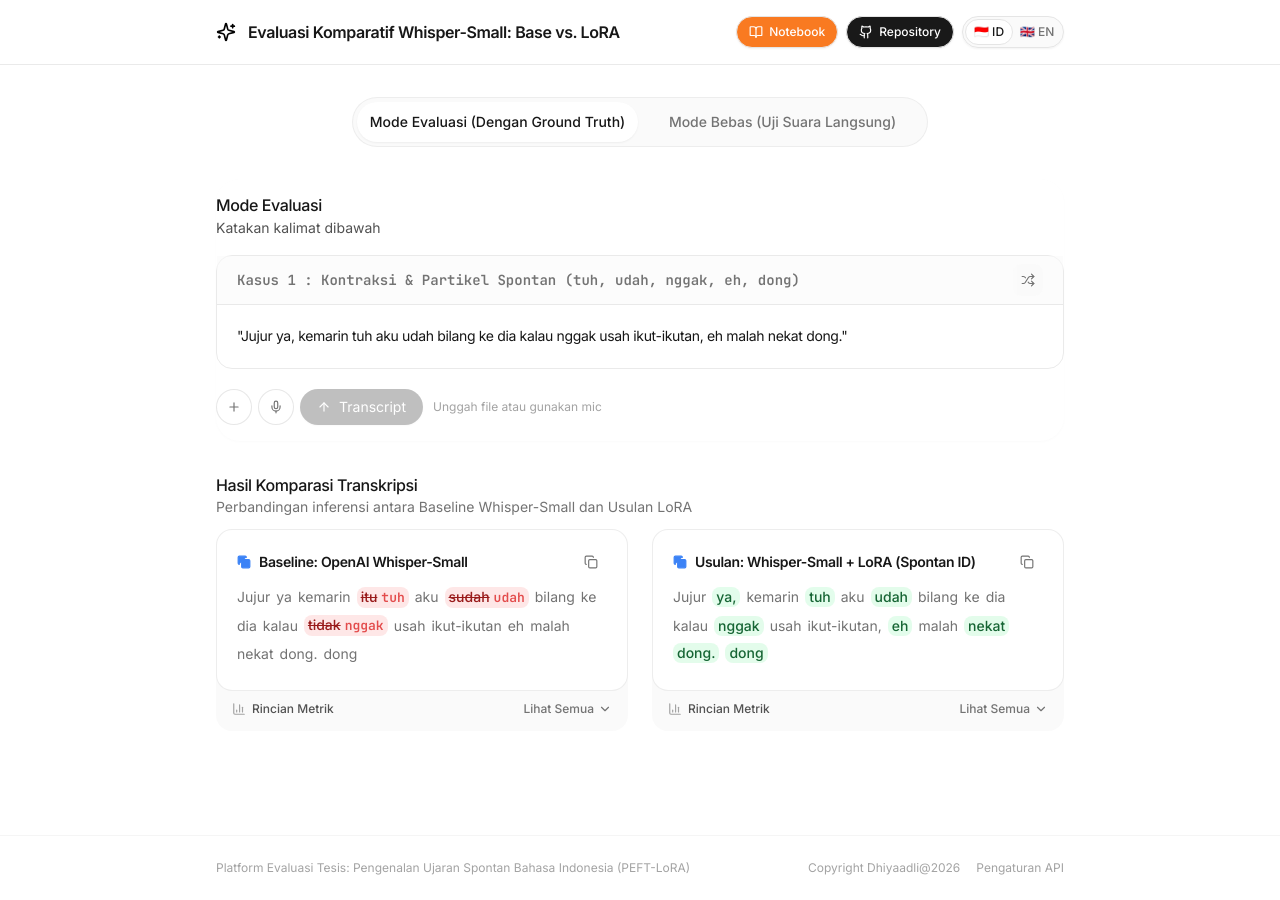
Test: Full Application User Workflow Integration › switches between Benchmark Mode and Free-Form Mode
The image size is (1280, 900).
Expected: the text "Kasus 1" is shown, [237, 270, 800, 290]
Note: Switch to Free-Form mode
Click the tab "Mode Bebas (Uji Suara Langsung)". click: (782, 122)
box: [642, 102, 923, 142]
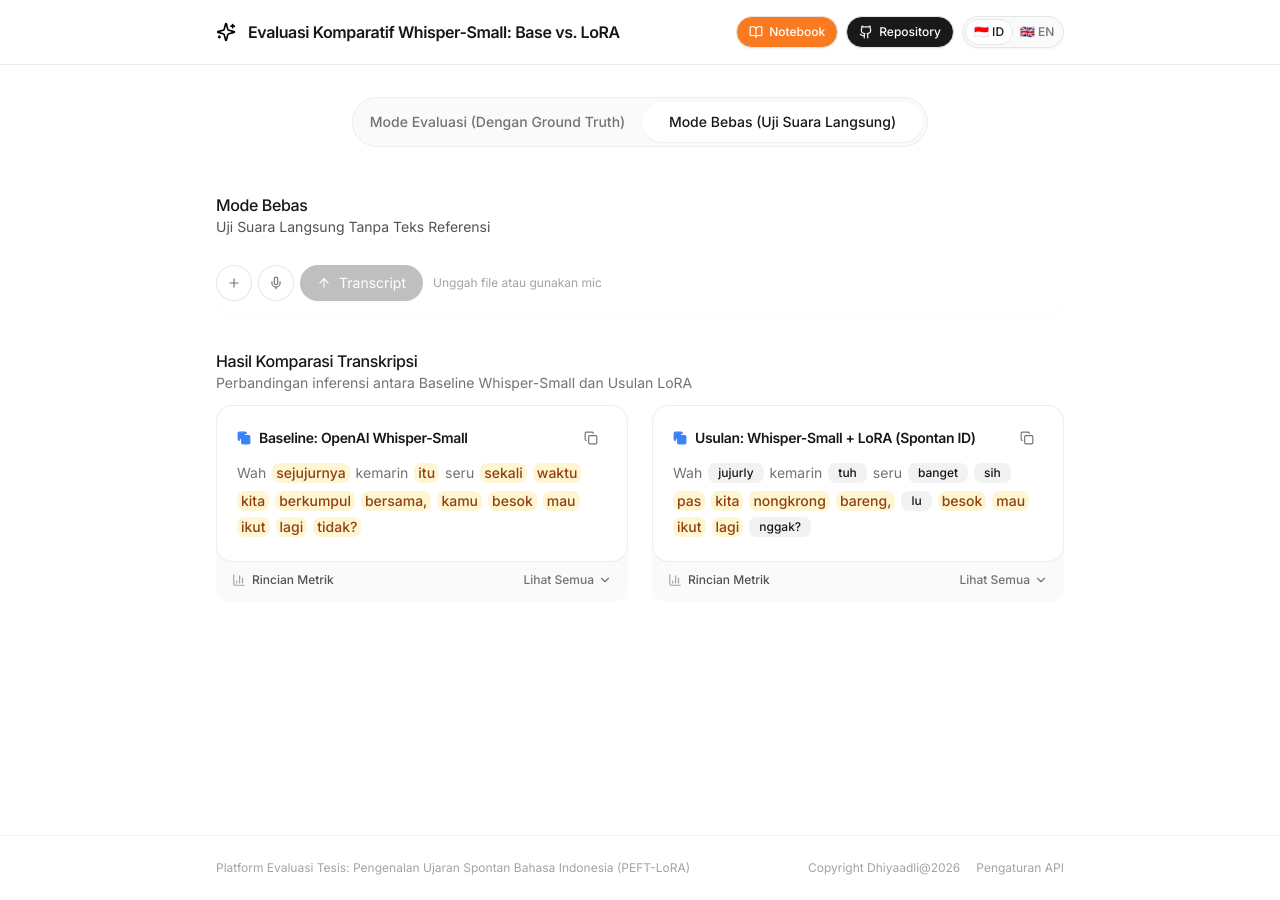
Now the text "Kasus 1" is gone
Now the heading "Mode Bebas" is shown, box [216, 195, 308, 215]
Now the heading "Uji Suara Langsung Tanpa Teks Referensi" is shown, box [216, 217, 490, 237]
